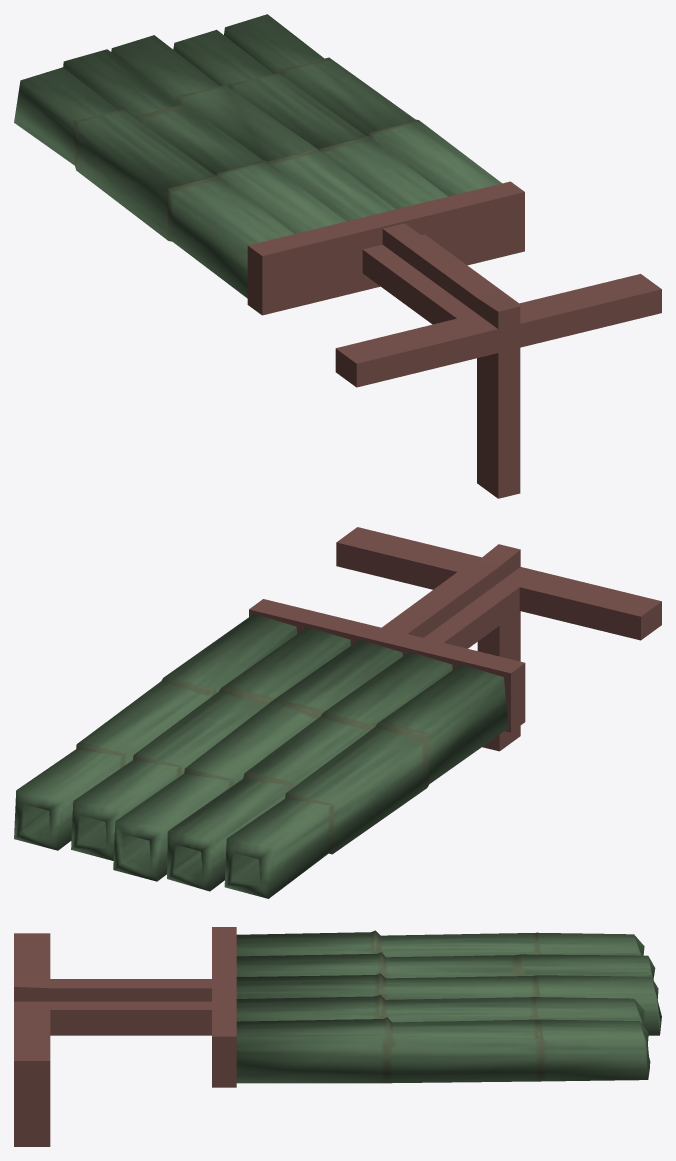
Rendered from bamboo_mid_5.glb.
The picture shows the model from 3 angles, top to bottom: view 1: azimuth 30°, elevation 25°; view 2: azimuth 150°, elevation 25°; view 3: azimuth 270°, elevation 25°; orthographic projection. The views are drawn at different scales.
Parts seen in each view (by area): view 1: Obstaclevvv, Stand.001; view 2: Obstaclevvv, Stand.001; view 3: Obstaclevvv, Stand.001.
Part boxes in pixels (left/top/right/bottom): Obstaclevvv: left=14, top=14, right=501, bottom=298; Stand.001: left=247, top=181, right=661, bottom=498; Obstaclevvv: left=14, top=614, right=508, bottom=898; Stand.001: left=249, top=527, right=661, bottom=751; Obstaclevvv: left=236, top=930, right=661, bottom=1083; Stand.001: left=14, top=927, right=236, bottom=1146.
Size of the model in its own units: 1.22 by 0.7135 by 2.61.
2 materials, 1 textured.
